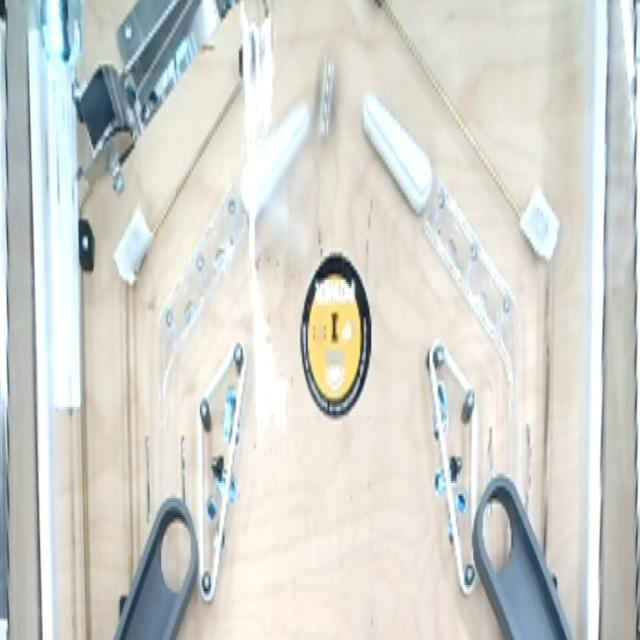ball: (313, 47, 342, 146)
flipper-left: (359, 84, 437, 220)
flipper-right: (236, 96, 312, 225)
